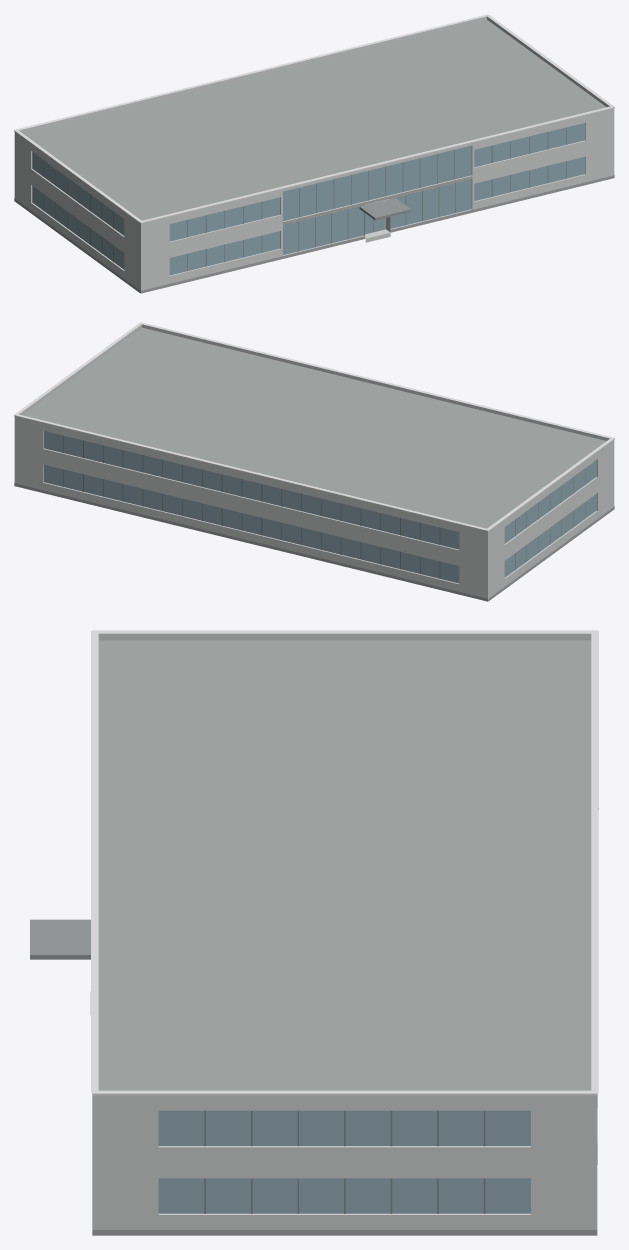
3 views of the same model, one above another, from view 1: azimuth 30°, elevation 25°; view 2: azimuth 150°, elevation 25°; view 3: azimuth 270°, elevation 25° (orthographic). The views are drawn at different scales.
Parts seen in each view (by area): view 1: b115951780__roof, b115951780__glass, b115951780__wall, b115951780__parapet, b115951780__trim, b115951780__base, b115951780__frame, b115951780__spandrel, b115951780__canopy; view 2: b115951780__roof, b115951780__wall, b115951780__glass, b115951780__parapet, b115951780__trim, b115951780__base, b115951780__frame; view 3: b115951780__roof, b115951780__wall, b115951780__glass, b115951780__trim, b115951780__parapet, b115951780__base, b115951780__canopy, b115951780__frame.
Part boxes in pixels (box(x1,y1,x2,y2)): b115951780__roof: box(22, 19, 606, 220); b115951780__glass: box(32, 123, 584, 275); b115951780__wall: box(14, 110, 614, 293); b115951780__parapet: box(14, 16, 614, 225); b115951780__trim: box(14, 14, 614, 223); b115951780__base: box(14, 175, 614, 293); b115951780__frame: box(43, 127, 566, 271); b115951780__spandrel: box(283, 176, 472, 255); b115951780__canopy: box(359, 198, 411, 220); b115951780__roof: box(22, 327, 606, 528); b115951780__wall: box(14, 418, 614, 600); b115951780__glass: box(44, 431, 596, 583); b115951780__parapet: box(14, 324, 614, 533); b115951780__trim: box(14, 322, 614, 531); b115951780__base: box(14, 483, 614, 601); b115951780__frame: box(63, 435, 585, 578); b115951780__roof: box(98, 640, 597, 1144); b115951780__wall: box(92, 1093, 597, 1229); b115951780__glass: box(158, 1110, 530, 1213); b115951780__trim: box(91, 630, 598, 1095); b115951780__parapet: box(92, 633, 597, 1099); b115951780__base: box(92, 1230, 597, 1235); b115951780__canopy: box(30, 919, 90, 959); b115951780__frame: box(204, 1110, 485, 1213).
Size of the model in its own units: 52.85 by 7.95 by 27.42.
